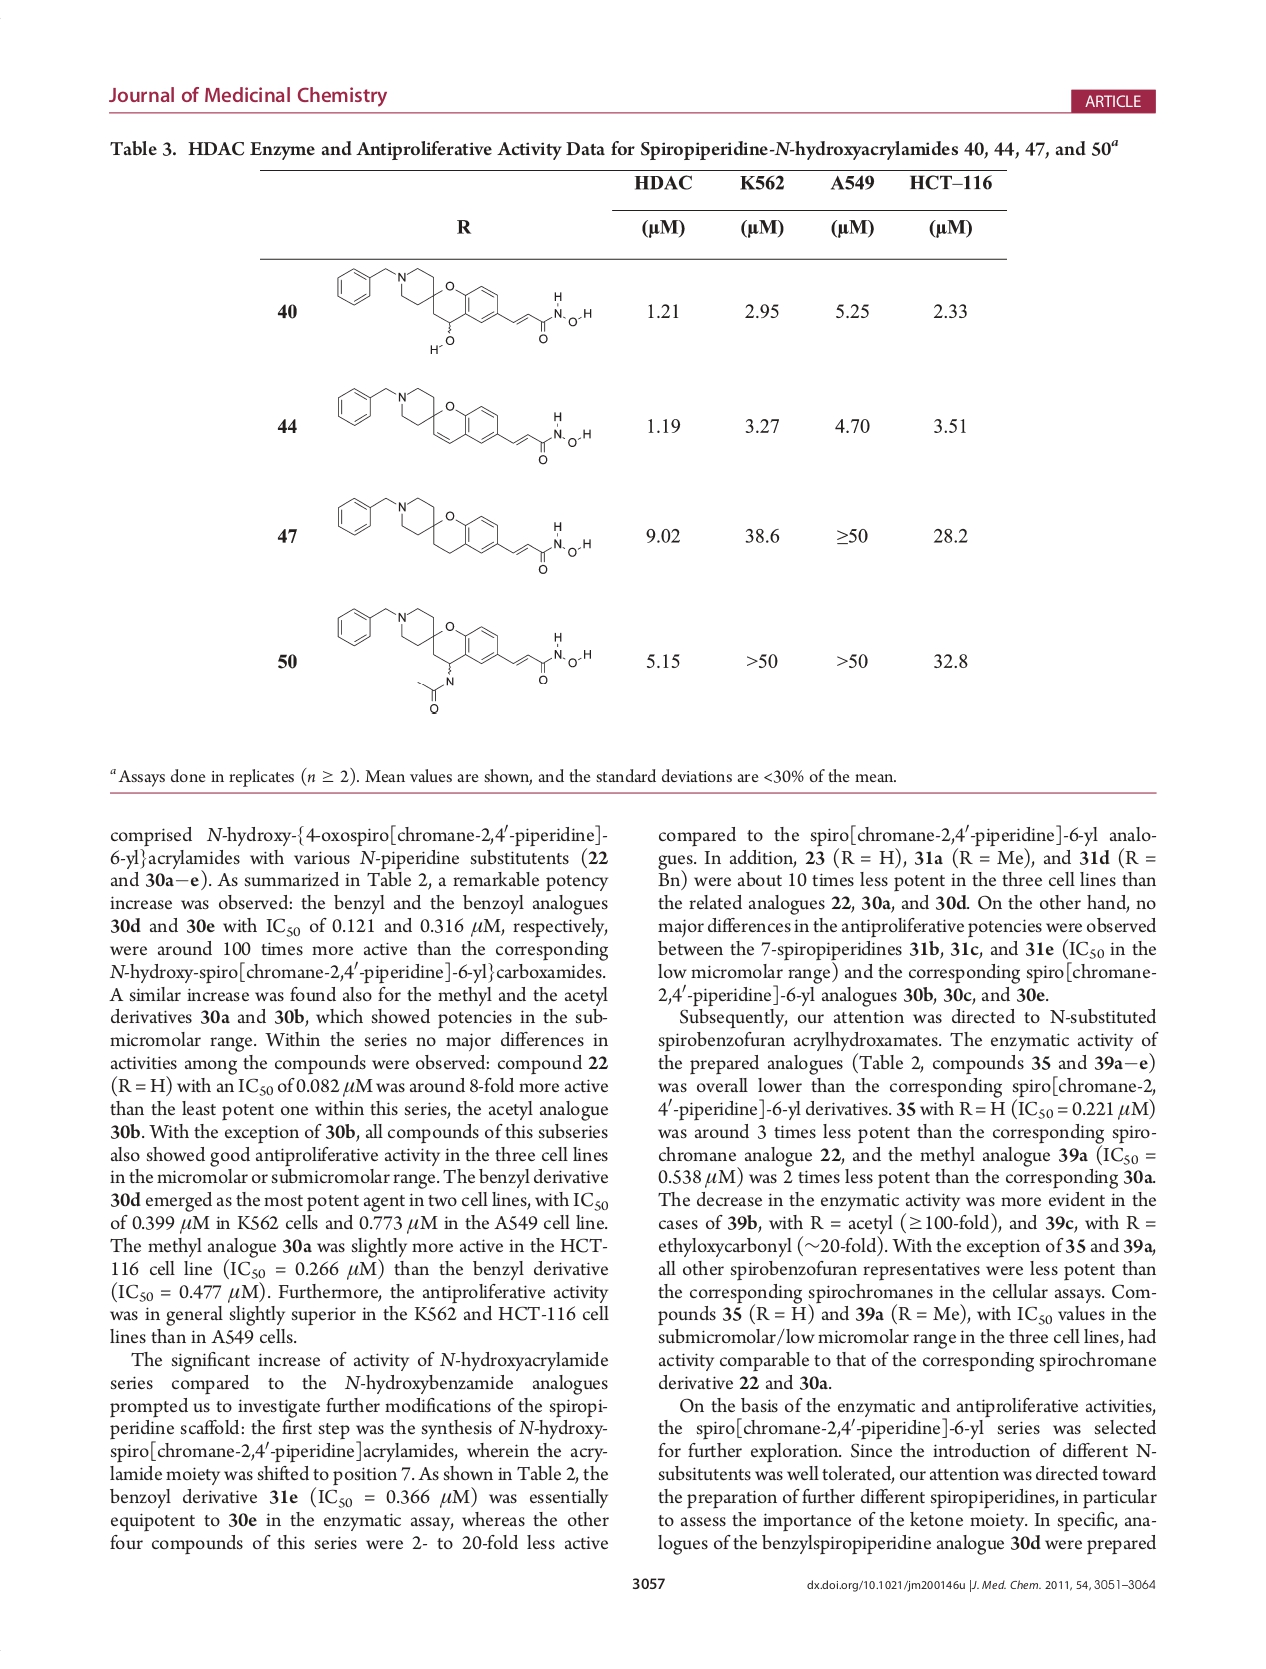exist_molecular: (331, 601, 594, 719), (330, 263, 596, 360), (328, 379, 598, 471), (328, 489, 594, 581)
